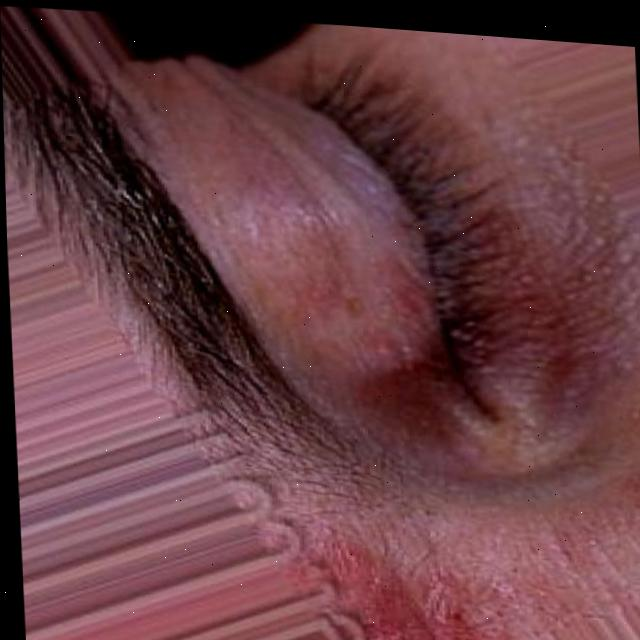Rosacea: (303, 531, 507, 640)
